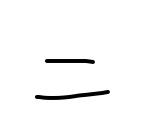eqv: (26, 56, 114, 101)
